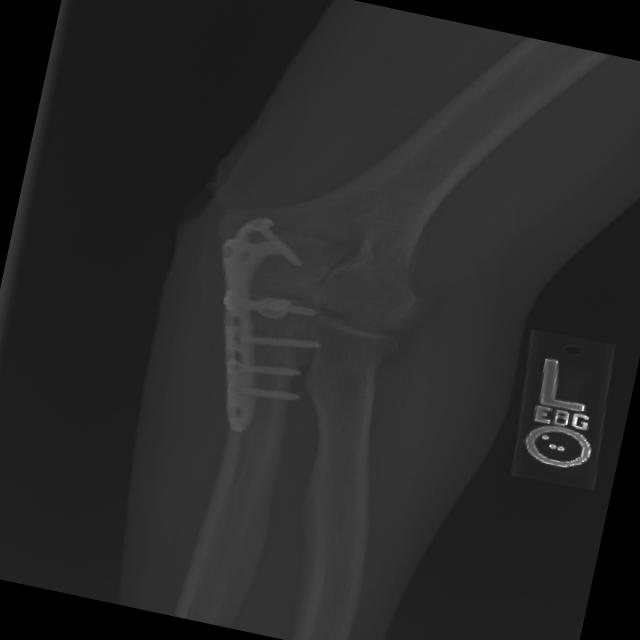elbow positive: (268, 198, 376, 288)
